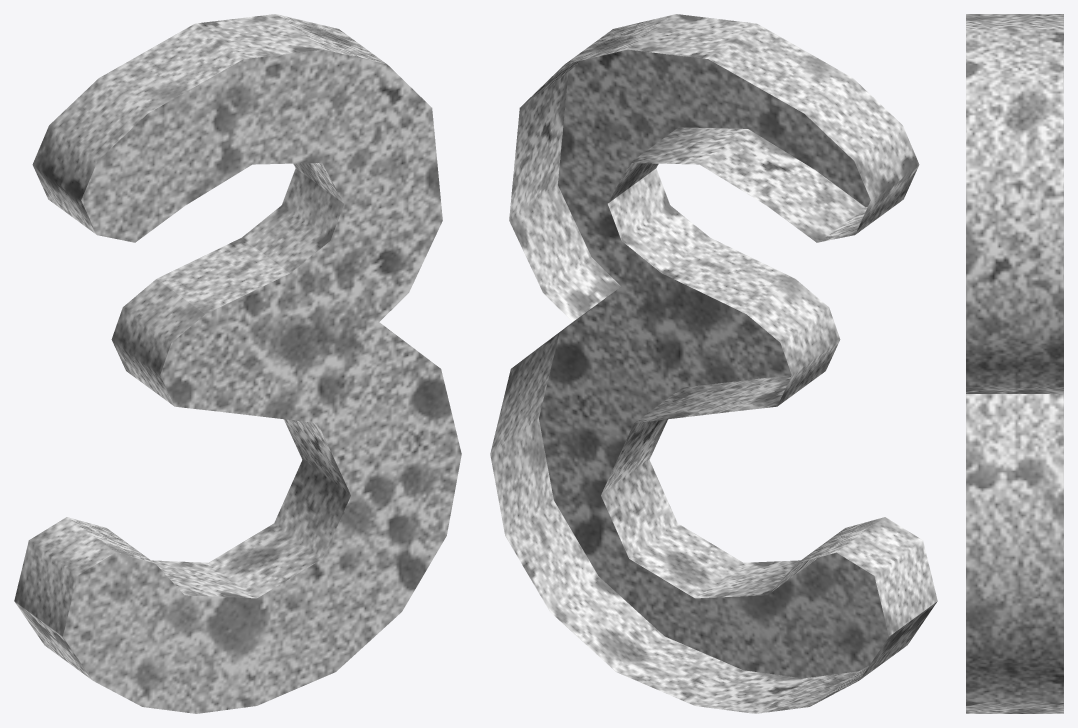
Rendered from Tres.FBX.
The picture shows the model from 3 angles, left to right: view 1: azimuth 30°, elevation 25°; view 2: azimuth 150°, elevation 25°; view 3: azimuth 270°, elevation 25°; orthographic projection.
Parts seen in each view (by area): view 1: Tres; view 2: Tres; view 3: Tres.
Boxes of the visible parts, left/top/right/bottom form: Tres: left=14, top=14, right=461, bottom=713; Tres: left=490, top=14, right=937, bottom=713; Tres: left=966, top=14, right=1063, bottom=713.
Bounding box in the file's own units: 1.18 × 1.84 × 0.25.
